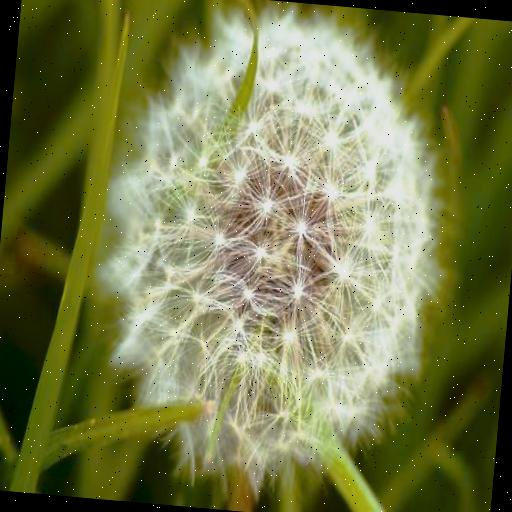dandelion: (94, 0, 471, 503)
